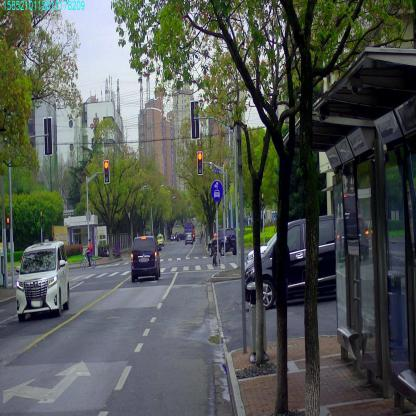traffic-light: (104, 160, 109, 183), (198, 152, 202, 174)
